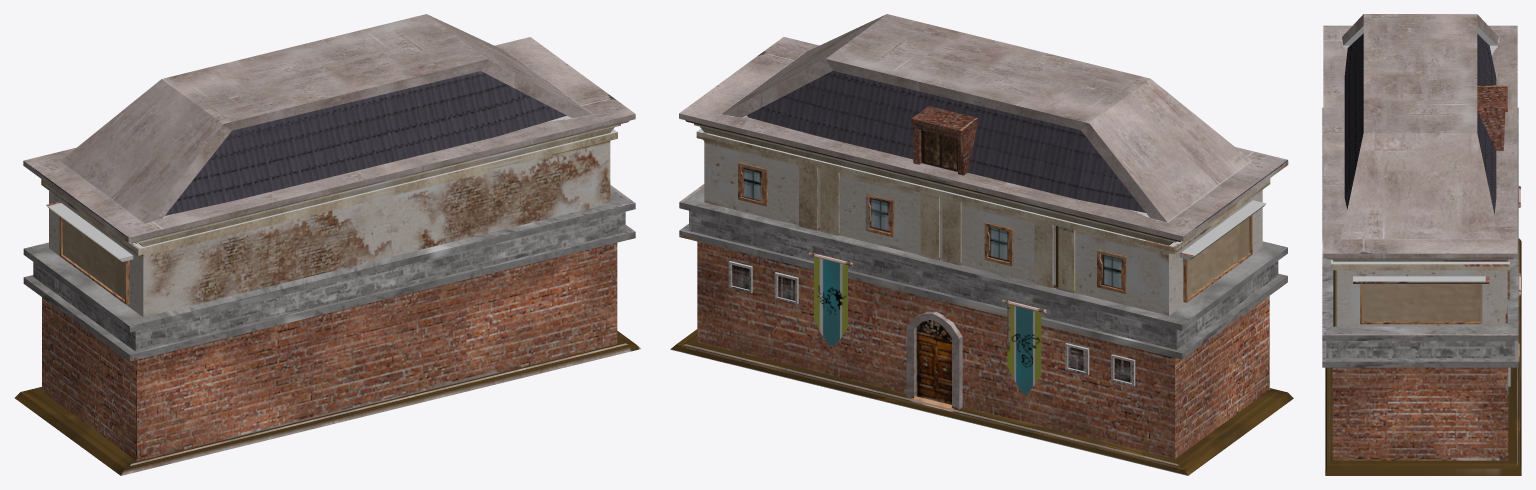
File: guildHouseHL.glb
The picture shows the model from 3 angles, left to right: view 1: azimuth 30°, elevation 25°; view 2: azimuth 150°, elevation 25°; view 3: azimuth 270°, elevation 25°; orthographic projection. The views are drawn at different scales.
Parts seen in each view (by area): view 1: guildhouseHL; view 2: guildhouseHL; view 3: guildhouseHL.
Boxes of the visible parts, bbox=[...] form: guildhouseHL: bbox=[15, 14, 640, 475]; guildhouseHL: bbox=[670, 14, 1293, 475]; guildhouseHL: bbox=[1322, 14, 1521, 475].
Bounding box in the file's own units: 16.8 × 9.46 × 6.04.
1 material, 1 textured.
